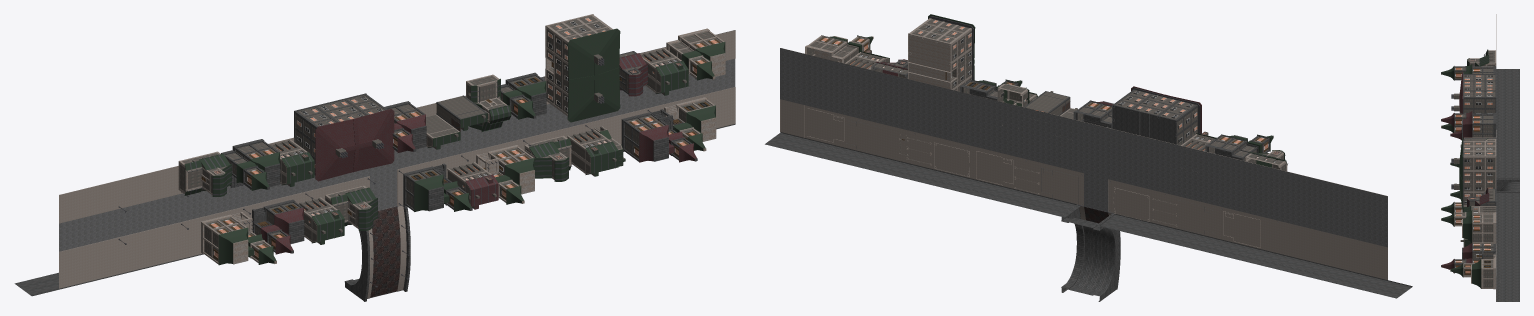
File: StreetSet001b.fbx
3 renders of one model, left to right at view 1: azimuth 30°, elevation 25°; view 2: azimuth 150°, elevation 25°; view 3: azimuth 270°, elevation 25°, orthographic. The views are drawn at different scales.
Visible parts, largest first — view 1: Bridge.003; view 2: Bridge.003; view 3: Bridge.003.
Boxes of the visible parts, <box> form: Bridge.003: <box>14,14,735,301</box>; Bridge.003: <box>765,14,1412,301</box>; Bridge.003: <box>1441,14,1519,301</box>.
Bounding box in the file's own units: 18100 × 5737 × 2587.
